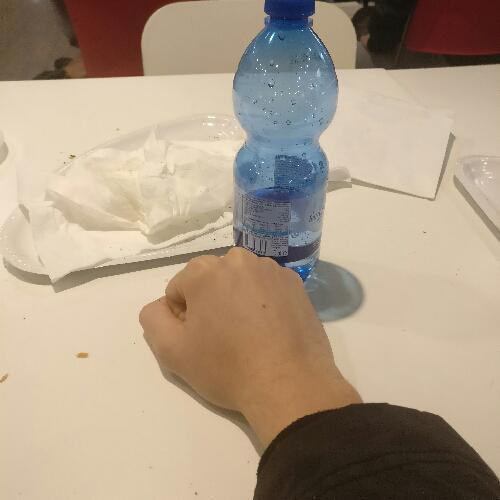rock: (134, 238, 350, 408)
